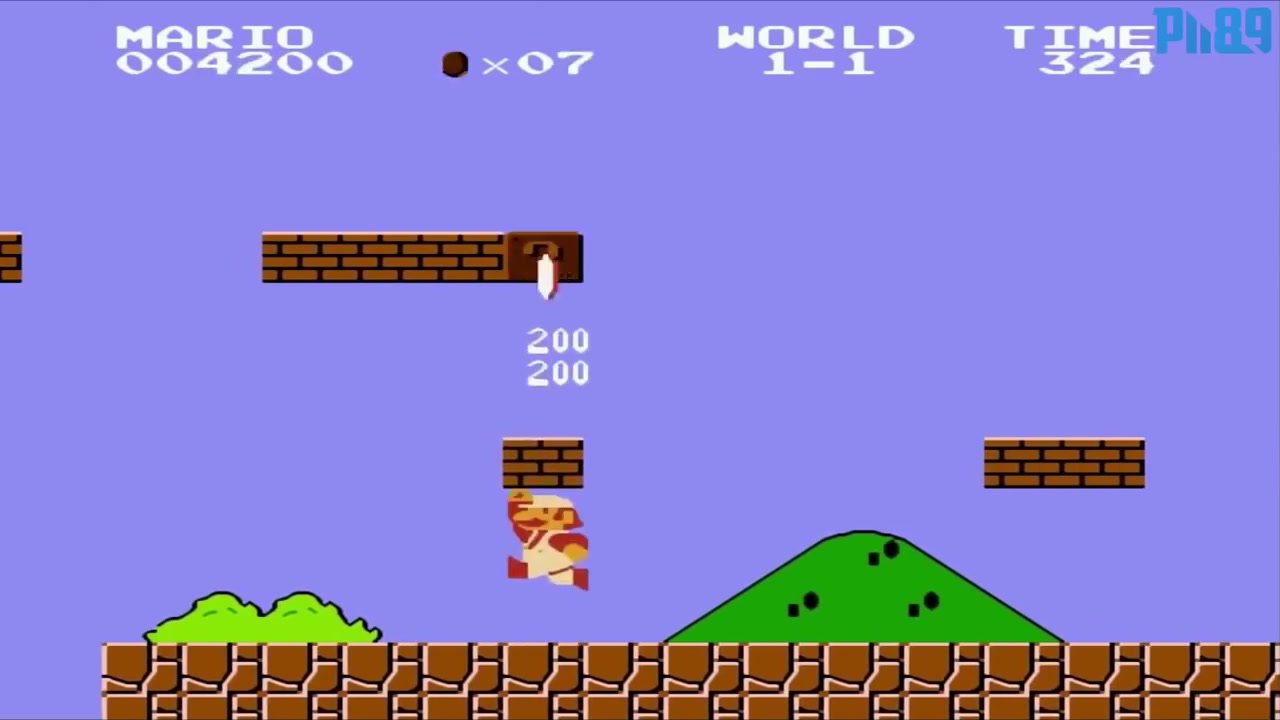mario: (498, 479, 595, 594)
